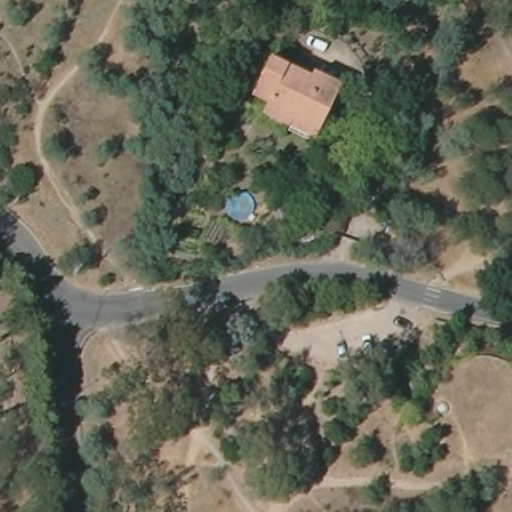pool: (222, 191, 256, 222)
